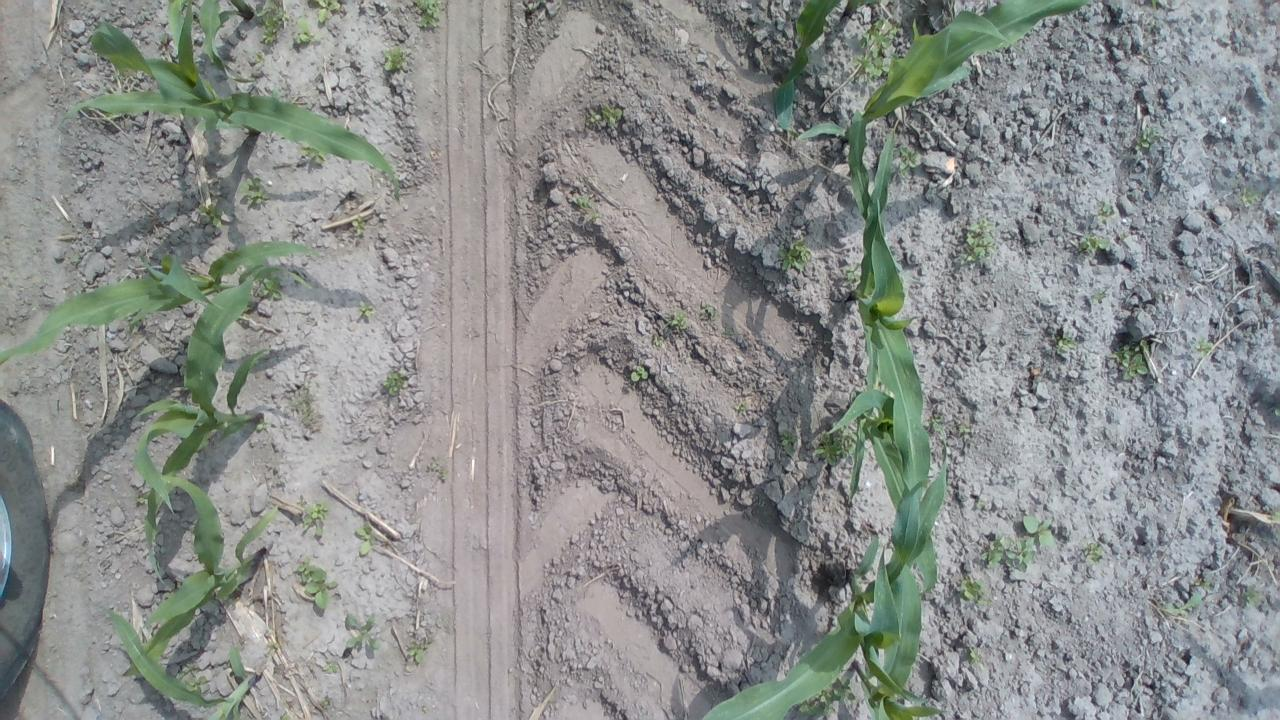Maize: (698, 439, 952, 720), (58, 0, 403, 195), (798, 0, 1094, 221), (132, 264, 312, 590), (1, 240, 322, 366), (839, 108, 930, 528), (120, 475, 280, 677), (821, 382, 940, 596), (102, 603, 258, 720), (772, 0, 878, 134), (849, 658, 948, 720)
Weeds: (858, 16, 902, 75), (799, 675, 858, 716), (296, 555, 339, 611), (980, 531, 1037, 573), (958, 216, 998, 266), (1110, 339, 1150, 382), (256, 0, 292, 45), (814, 429, 858, 465), (296, 494, 330, 538), (344, 612, 382, 650), (290, 382, 318, 426), (778, 239, 814, 273), (1022, 512, 1056, 548), (238, 174, 272, 209), (959, 574, 992, 607), (898, 140, 924, 178), (584, 103, 622, 127), (1162, 592, 1202, 614), (1076, 232, 1112, 256), (414, 0, 442, 30), (355, 519, 376, 558), (256, 270, 284, 299), (380, 368, 410, 395), (289, 15, 312, 49), (198, 202, 226, 228), (316, 0, 342, 27), (407, 638, 432, 665), (383, 46, 406, 72), (297, 144, 328, 163), (1136, 126, 1160, 150), (430, 456, 449, 481), (186, 675, 208, 695), (1240, 187, 1260, 208), (669, 310, 690, 330), (1098, 200, 1115, 224), (1194, 334, 1212, 356), (1246, 584, 1262, 608), (175, 658, 192, 680), (1057, 334, 1079, 350), (842, 262, 861, 280), (776, 431, 794, 450), (1082, 543, 1102, 560), (255, 417, 274, 434), (630, 365, 649, 382), (967, 645, 983, 665), (570, 195, 594, 208), (352, 214, 367, 232), (699, 304, 718, 318), (210, 421, 230, 434), (930, 415, 944, 432), (358, 304, 376, 317), (160, 236, 183, 246), (126, 669, 143, 681), (323, 661, 338, 674), (822, 13, 832, 32), (112, 70, 130, 80), (253, 50, 265, 64), (270, 87, 282, 100), (1092, 292, 1104, 305), (652, 334, 665, 346), (1199, 578, 1212, 590), (318, 697, 330, 709), (958, 424, 972, 434), (267, 640, 278, 652), (734, 400, 746, 410), (136, 494, 148, 504), (420, 706, 430, 716), (278, 710, 288, 720), (1270, 511, 1280, 521), (71, 255, 81, 264), (591, 212, 601, 220), (158, 34, 166, 42), (1151, 0, 1158, 7)
